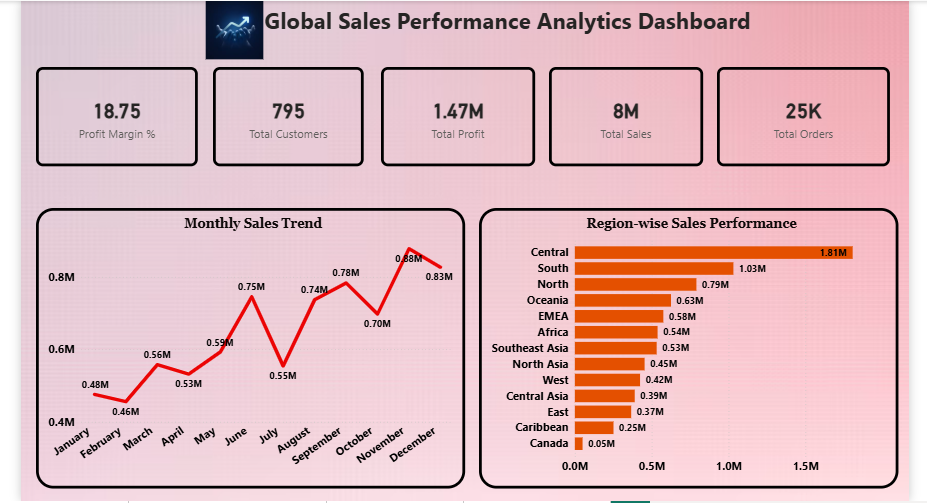

The dashboard page shown, as its layout file describes it:
{"tool":"powerbi","page":{"name":"Executive Summary","canvas":[1280,720],"ordinal":0},"visuals":[{"type":"card","fields":{"Values":["cleaned_sales_data.Total Customers"]},"box":[276.5,95,217.4,142.6],"z":0},{"type":"card","fields":{"Values":["cleaned_sales_data.Profit Margin %"]},"box":[21.6,95,233.3,142.6],"z":1000},{"type":"card","fields":{"Values":["cleaned_sales_data.Total Sales"]},"box":[760.3,95,221.8,142.6],"z":2000},{"type":"card","fields":{"Values":["cleaned_sales_data.Total Profit"]},"box":[518.4,95,221.8,142.6],"z":3000},{"type":"card","fields":{"Values":["cleaned_sales_data.Total Orders"]},"box":[1002.2,95,249.1,142.6],"z":4000},{"type":"lineChart","title":"Monthly Sales Trend","fields":{"Y":["Sum(cleaned_sales_data.sales)"],"Category":["cleaned_sales_data.month"]},"box":[22,298.5,617.6,403.9],"z":5000},{"type":"clusteredBarChart","title":"Region-wise Sales Performance","fields":{"Category":["cleaned_sales_data.region"],"Y":["Sum(cleaned_sales_data.sales)"]},"box":[660,298.5,604.4,403.9],"z":6000},{"type":"textbox","box":[345.6,0,721.4,69.1],"z":7000},{"type":"image","box":[157,0,301,83.5],"z":7001}]}

Visuals, with their boxes in screenshot pixels (x1, y1, x2, y2):
card - cleaned_sales_data.Total Customers: (left=212, top=65, right=361, bottom=163)
card - cleaned_sales_data.Profit Margin %: (left=37, top=65, right=197, bottom=163)
card - cleaned_sales_data.Total Sales: (left=545, top=65, right=697, bottom=163)
card - cleaned_sales_data.Total Profit: (left=378, top=65, right=531, bottom=163)
card - cleaned_sales_data.Total Orders: (left=711, top=65, right=882, bottom=163)
"Monthly Sales Trend" lineChart: (left=37, top=205, right=462, bottom=483)
"Region-wise Sales Performance" clusteredBarChart: (left=476, top=205, right=891, bottom=483)
textbox: (left=259, top=0, right=756, bottom=48)
image: (left=130, top=0, right=337, bottom=57)
